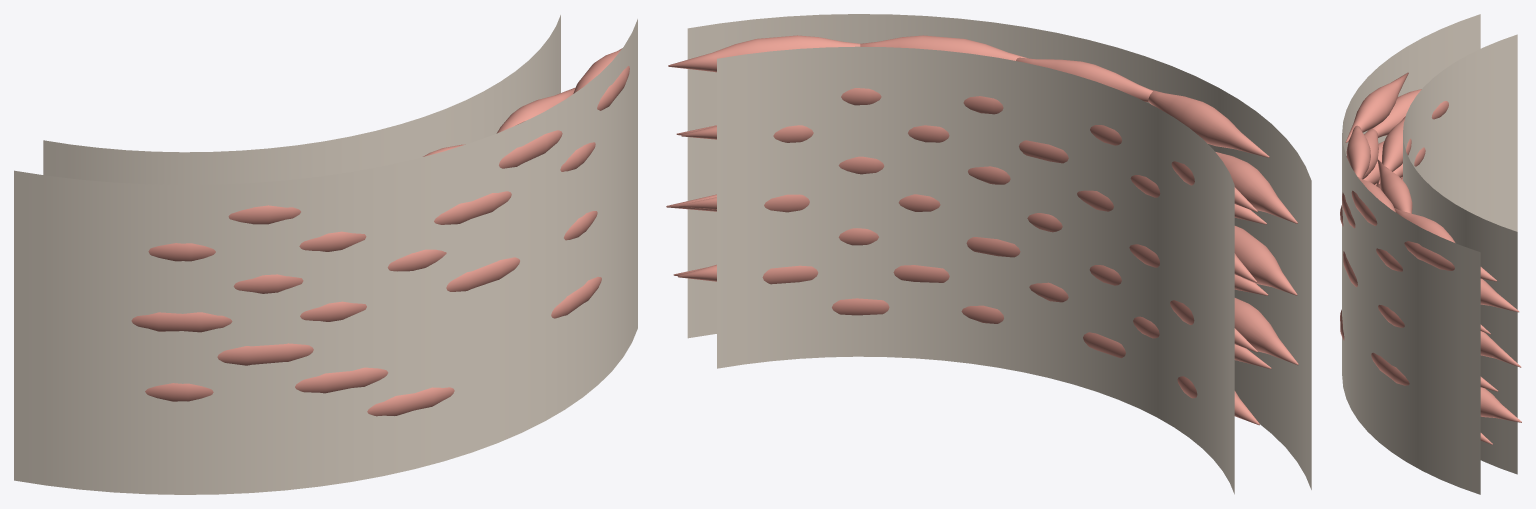
The model's file is smoothtissue.glb.
3 views of the same model, side by side, from view 1: azimuth 30°, elevation 25°; view 2: azimuth 150°, elevation 25°; view 3: azimuth 270°, elevation 25° (orthographic). The views are drawn at different scales.
Parts seen in each view (by area): view 1: Extracellular matrix, Smooth muscle cells.041, Smooth muscle cells.037, Smooth muscle cells.034, Smooth muscle cells.030, Smooth muscle cells.051, Smooth muscle cells.043, Smooth muscle cells.056, Smooth muscle cells.055, Smooth muscle cells.053, Smooth muscle cells.033, Smooth muscle cells.045 (+6 smaller); view 2: Extracellular matrix, Smooth muscle cells.053, Smooth muscle cells.056, Smooth muscle cells.049, Smooth muscle cells.041, Smooth muscle cells.033, Smooth muscle cells.055, Smooth muscle cells.054, Smooth muscle cells.008, Smooth muscle cells.016, Smooth muscle cells.024, Smooth muscle cells.004 (+3 smaller); view 3: Extracellular matrix, Smooth muscle cells.053, Smooth muscle cells.027, Smooth muscle cells.026, Smooth muscle cells.054, Smooth muscle cells.056, Smooth muscle cells.049, Smooth muscle cells.008, Smooth muscle cells.055, Smooth muscle cells.028, Smooth muscle cells.016, Smooth muscle cells.024 (+7 smaller).
Boxes of the visible parts, <box> form: Extracellular matrix: <box>14,15,637,494</box>; Smooth muscle cells.041: <box>131,312,232,332</box>; Smooth muscle cells.037: <box>217,343,313,365</box>; Smooth muscle cells.034: <box>295,367,388,393</box>; Smooth muscle cells.030: <box>367,387,454,416</box>; Smooth muscle cells.051: <box>434,191,511,224</box>; Smooth muscle cells.043: <box>446,257,519,291</box>; Smooth muscle cells.056: <box>573,48,629,110</box>; Smooth muscle cells.055: <box>499,121,562,168</box>; Smooth muscle cells.053: <box>228,205,300,224</box>; Smooth muscle cells.033: <box>145,383,213,401</box>; Smooth muscle cells.045: <box>233,274,303,293</box>; Extracellular matrix: <box>687,14,1311,494</box>; Smooth muscle cells.053: <box>1148,89,1269,157</box>; Smooth muscle cells.056: <box>668,35,860,72</box>; Smooth muscle cells.049: <box>1215,152,1297,223</box>; Smooth muscle cells.041: <box>1234,226,1297,295</box>; Smooth muscle cells.033: <box>1234,298,1298,365</box>; Smooth muscle cells.055: <box>860,35,1028,60</box>; Smooth muscle cells.054: <box>1016,57,1152,102</box>; Smooth muscle cells.008: <box>677,264,818,284</box>; Smooth muscle cells.016: <box>678,194,809,212</box>; Smooth muscle cells.024: <box>681,125,813,142</box>; Smooth muscle cells.004: <box>832,298,889,315</box>; Extracellular matrix: <box>1342,14,1517,494</box>; Smooth muscle cells.053: <box>1345,72,1408,142</box>; Smooth muscle cells.027: <box>1377,159,1412,213</box>; Smooth muscle cells.026: <box>1378,116,1411,184</box>; Smooth muscle cells.054: <box>1346,125,1370,178</box>; Smooth muscle cells.056: <box>1404,234,1496,281</box>; Smooth muscle cells.049: <box>1372,89,1421,137</box>; Smooth muscle cells.008: <box>1480,387,1521,422</box>; Smooth muscle cells.055: <box>1351,177,1395,225</box>; Smooth muscle cells.028: <box>1394,208,1455,242</box>; Smooth muscle cells.016: <box>1480,331,1521,367</box>; Smooth muscle cells.024: <box>1480,278,1519,312</box>.
Size of the model in its own units: 5.57 by 2.6 by 1.77.
